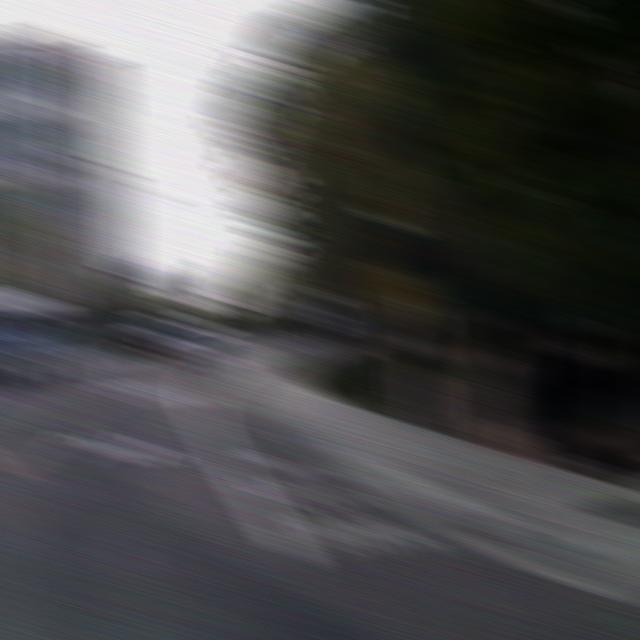pedestrianCrossing: (369, 261, 425, 316)
